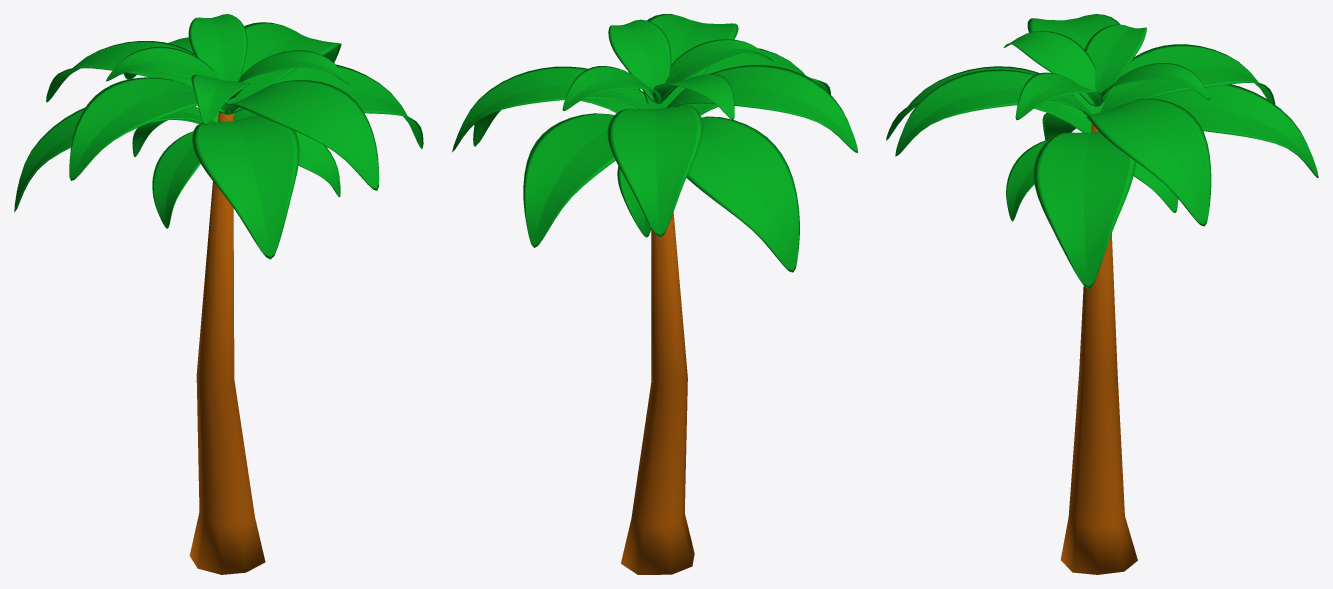
The model's file is PalmTree2.fbx.
3 renders of one model, left to right at view 1: azimuth 30°, elevation 25°; view 2: azimuth 150°, elevation 25°; view 3: azimuth 270°, elevation 25°, orthographic.
Parts seen in each view (by area): view 1: PalmTree2; view 2: PalmTree2; view 3: PalmTree2.
Boxes of the visible parts, x1=… form: PalmTree2: x1=14, y1=14, x2=423, y2=574; PalmTree2: x1=452, y1=14, x2=857, y2=574; PalmTree2: x1=886, y1=14, x2=1318, y2=574.
Size of the model in its own units: 6.41 by 6.6 by 8.42.
